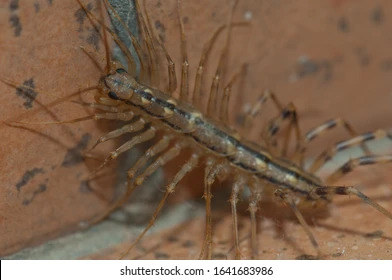centipede: (50, 8, 392, 251)
